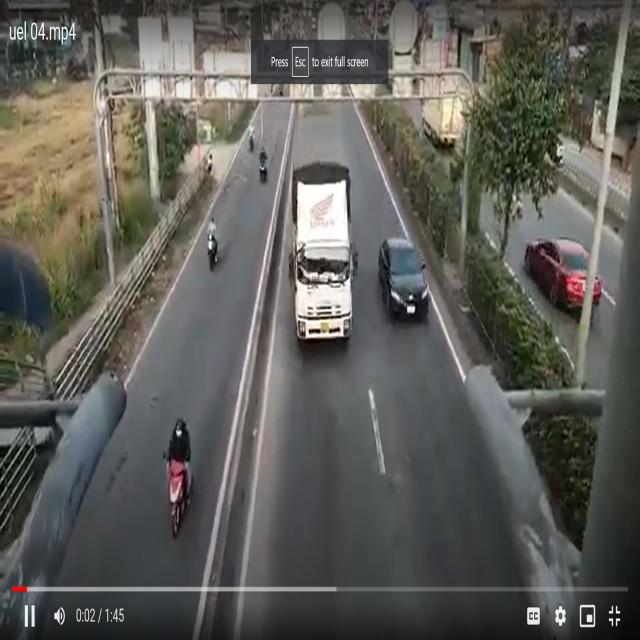car: (524, 234, 600, 306), (378, 236, 429, 322)
motor: (166, 438, 191, 536), (207, 228, 220, 272)
truck: (292, 129, 352, 345)
